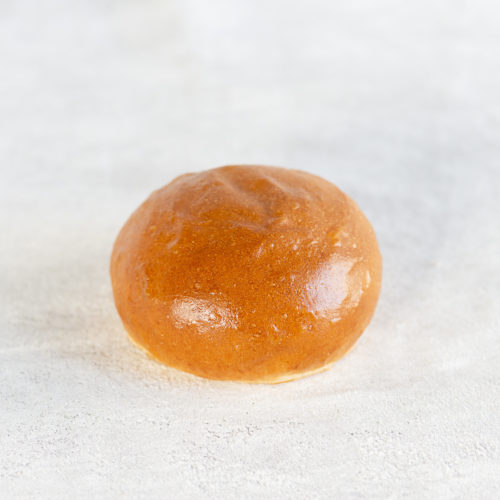hamburger_buns: (94, 160, 425, 402)
